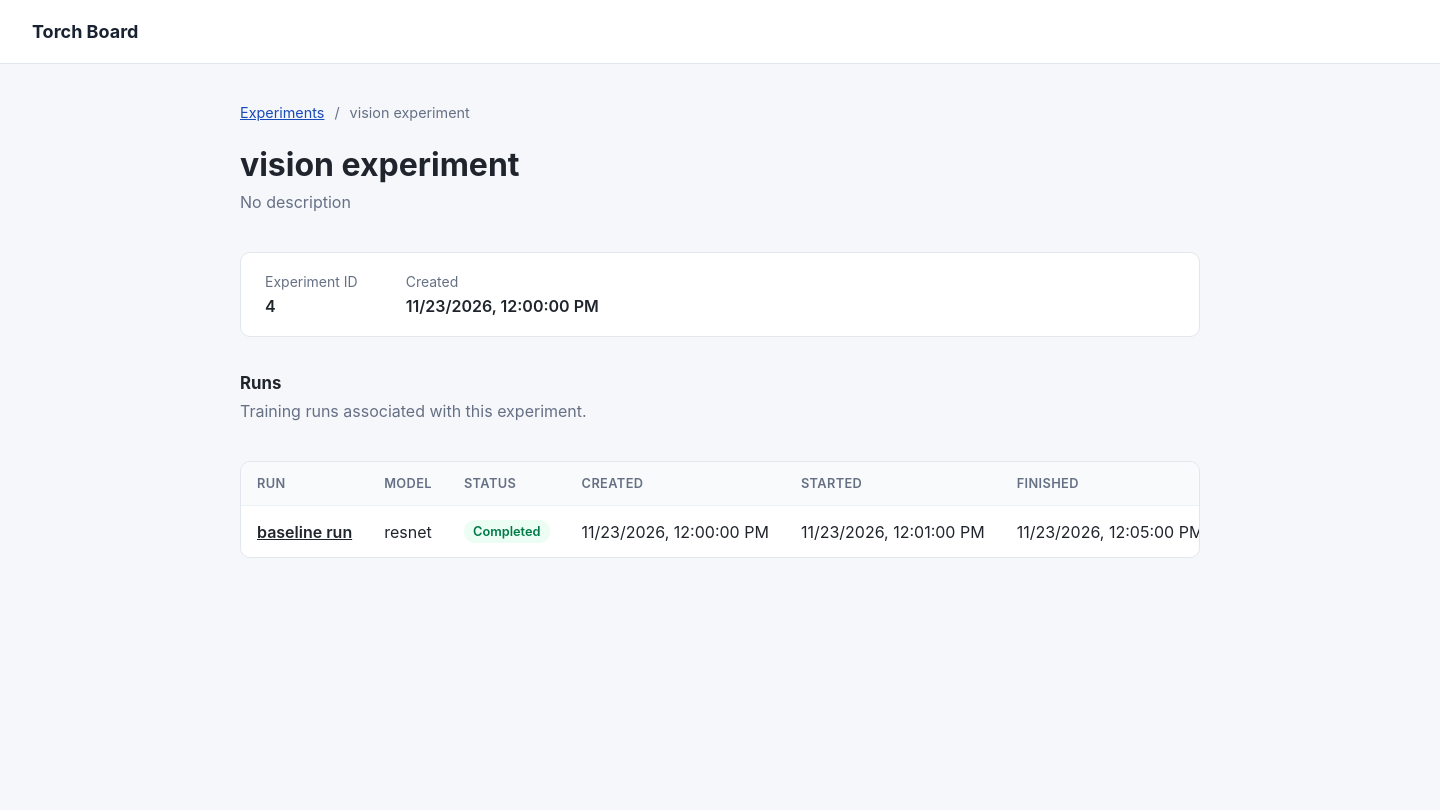
Scenario: run detail route › opens a run from the experiment run list
The width and height of the screenshot is (1440, 810).
Click the link "baseline run": (305, 532) 257,522 -> 352,542
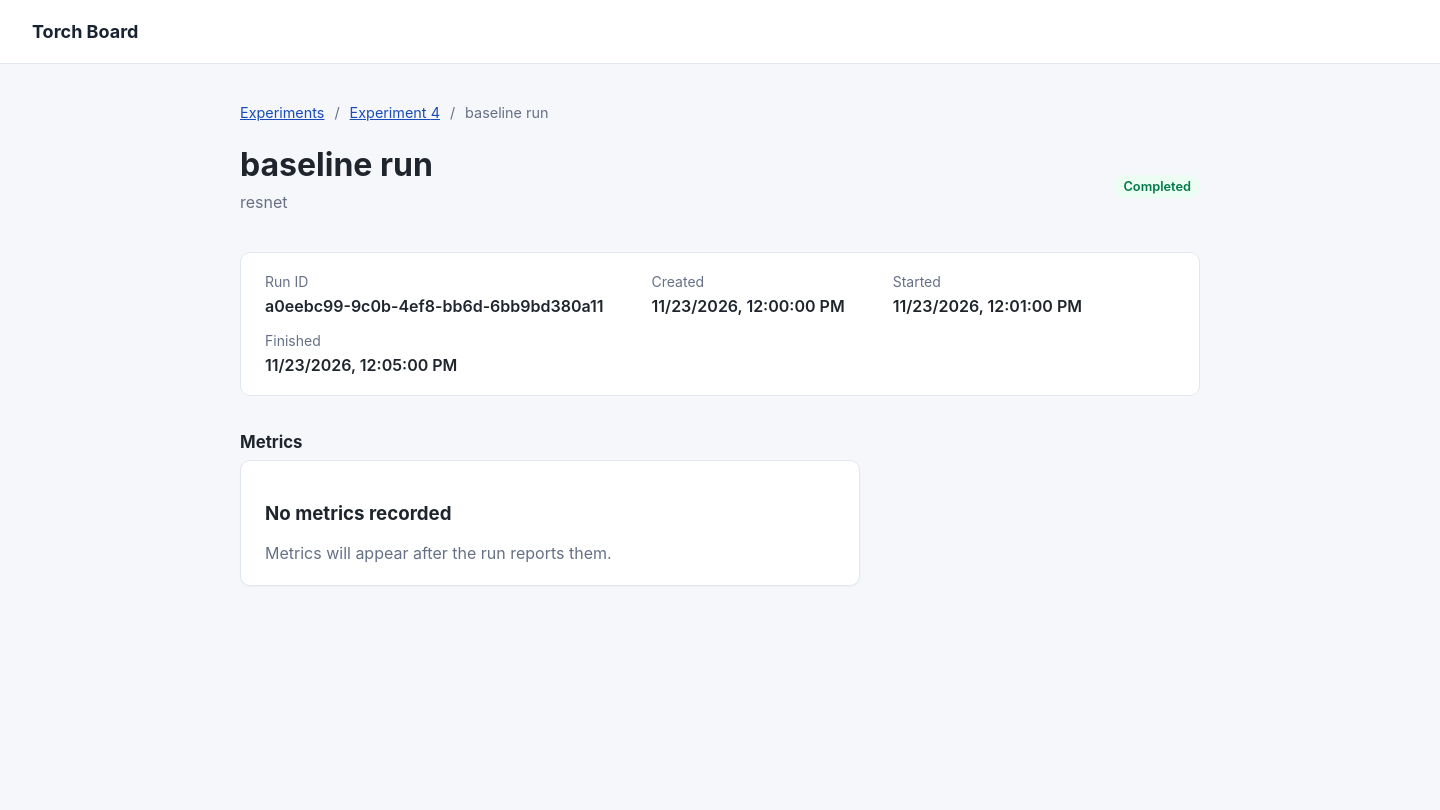
Check: the heading "baseline run" is shown, box 240,145 -> 433,184
